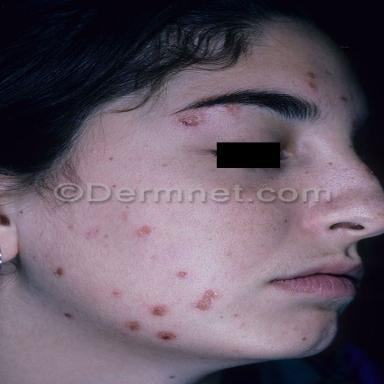acne: (196, 290, 217, 311), (179, 115, 201, 126), (222, 104, 242, 115), (156, 331, 177, 341), (137, 226, 152, 237), (152, 306, 166, 317), (127, 321, 139, 330), (54, 267, 64, 277), (309, 83, 316, 91), (178, 271, 187, 277), (307, 72, 315, 78), (112, 291, 121, 295)
